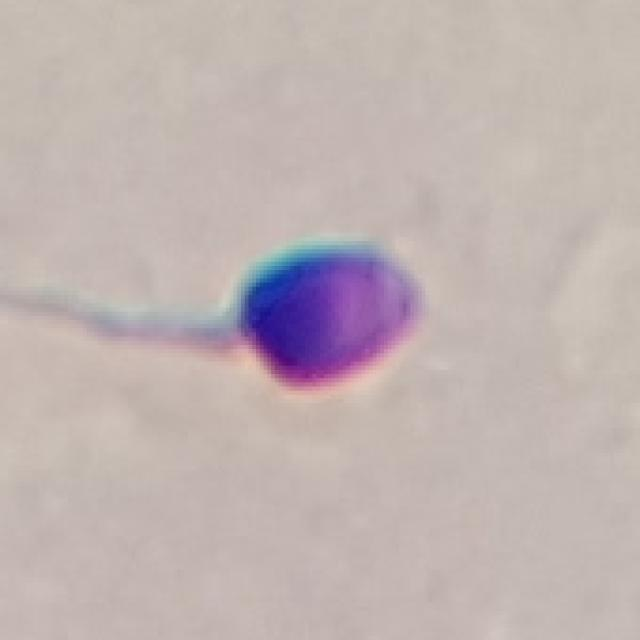normal sperm: (164, 240, 427, 391)
